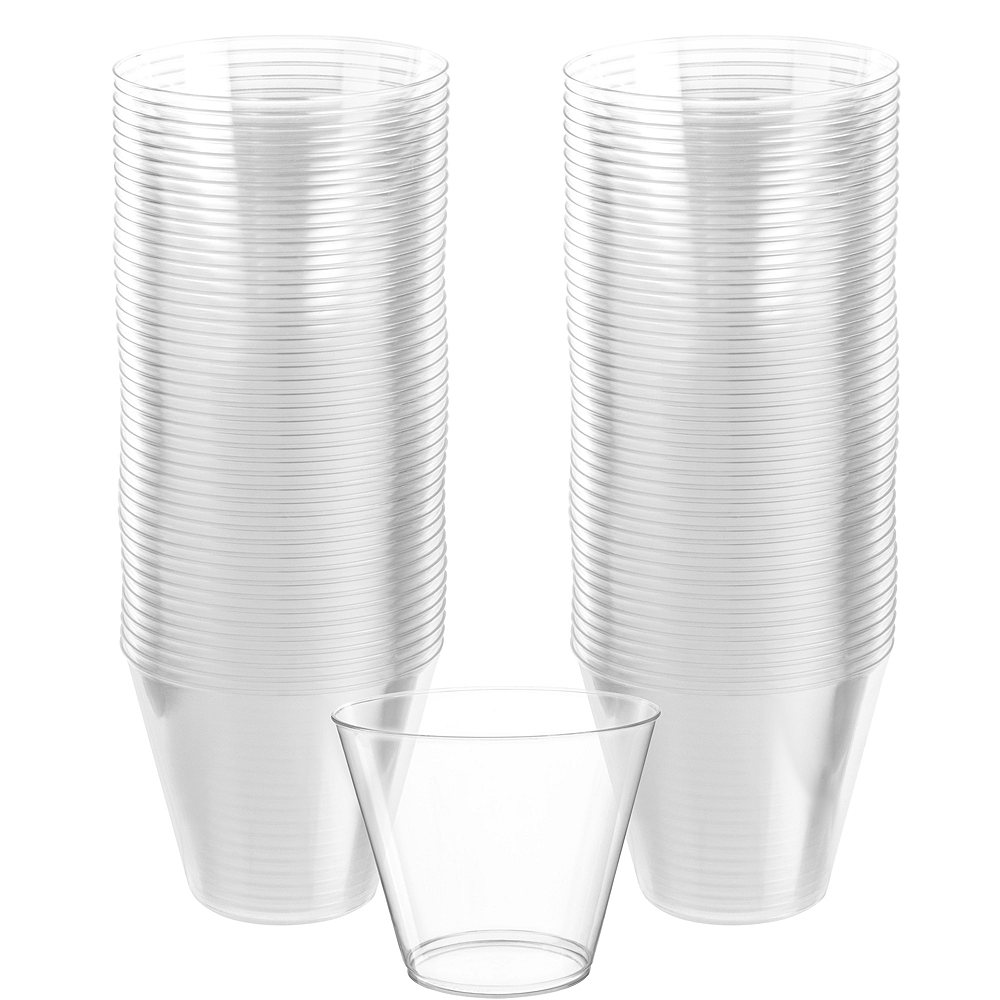plastic_glass: (284, 613, 758, 1000)
